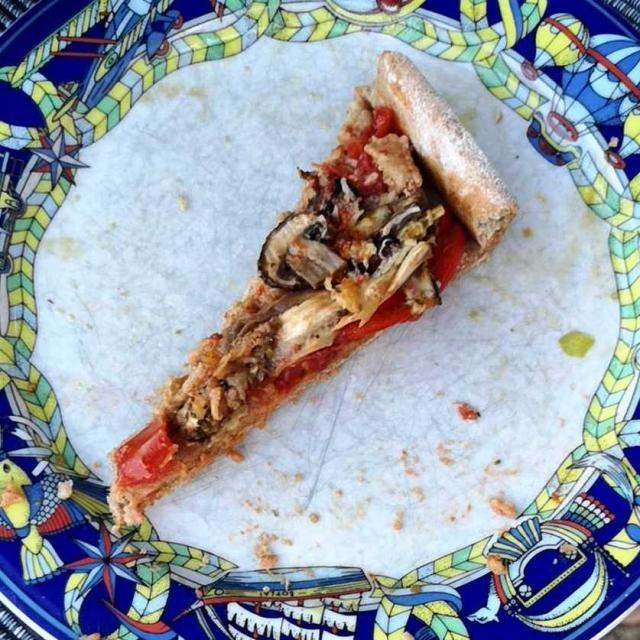pizza: (109, 54, 530, 535)
